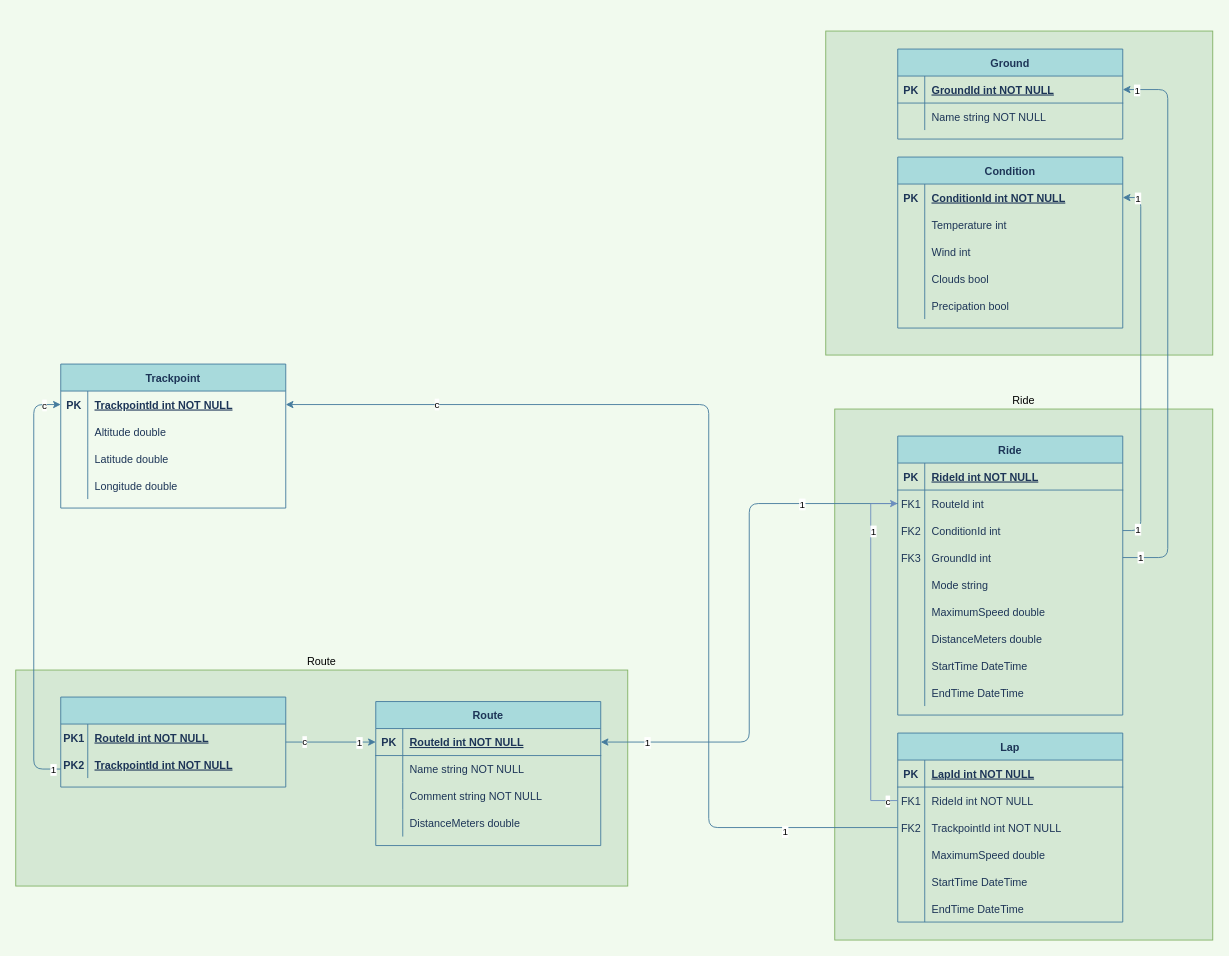
The diagram is 1229 pixels wide and 956 high, and some of its shapes have lost their labels. Each missing label, with the box of its shape:
Environment: (825, 30, 1213, 355)
RouteTrackpoints: (60, 696, 286, 787)
